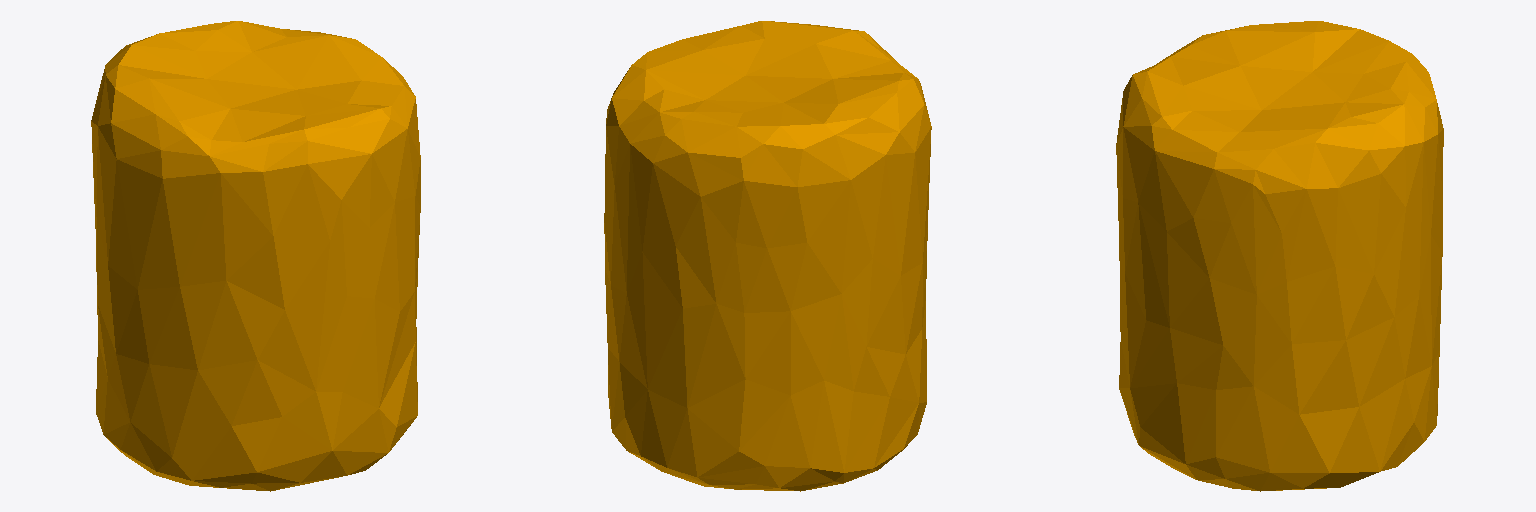
URDF robot description (progresso_new_england_clam_chowder):
<?xml version="1.0"?>
<robot name="progresso_new_england_clam_chowder">
  <link name="base_link">
    <contact>
      <lateral_friction value="1.0"/>
      <rolling_friction value="0.0"/>
      <contact_cfm value="0.0"/>
      <contact_erp value="1.0"/>
    </contact>
    <inertial>
      <mass value="0.417441599703"/>
      <inertia ixx="1" ixy="0" ixz="0" iyy="1" iyz="0" izz="1"/>
    </inertial>
    <visual>
      <geometry>
        <mesh filename="progresso_new_england_clam_chowder_visual.obj"/>
      </geometry>
    </visual>
    <collision>
      <geometry>
        <mesh filename="progresso_new_england_clam_chowder_collision.obj"/>
      </geometry>
    </collision>
  </link>
</robot>

--- Facts derived from the render (not from the file) ---
The picture shows the robot from 3 angles, left to right: view 1: azimuth 30°, elevation 25°; view 2: azimuth 150°, elevation 25°; view 3: azimuth 270°, elevation 25°; orthographic projection.
Robot: progresso_new_england_clam_chowder — 1 links, 0 joints (none); root link base_link; default pose: all joints at 0.
Visible links, largest first — view 1: base_link; view 2: base_link; view 3: base_link.
Link boxes in pixels (x1,y1,x2,y2): base_link: (91, 21, 420, 491); base_link: (604, 21, 931, 491); base_link: (1116, 21, 1443, 491).
Bounding box of the posed robot: 0.088 × 0.0884 × 0.1097 m (x, y, z).
1 mesh visuals loaded from 1 distinct referenced files (1 OBJ).